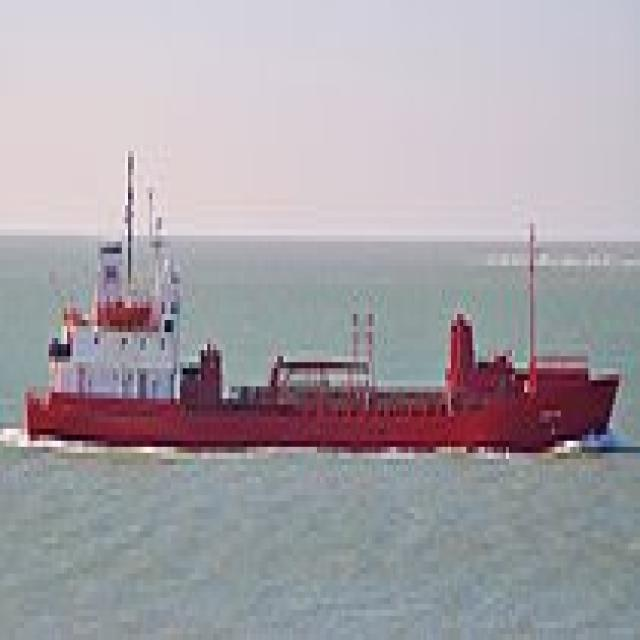Tanker: (21, 145, 616, 441)
